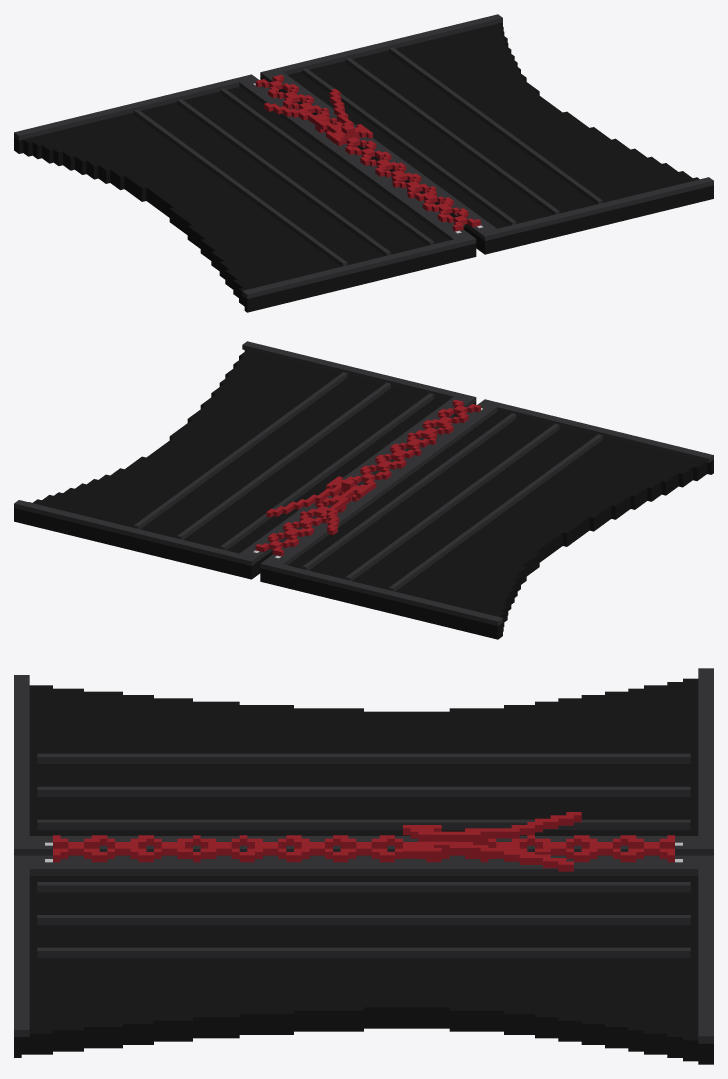
The model's file is corset.glb.
The picture shows the model from 3 angles, top to bottom: view 1: azimuth 30°, elevation 25°; view 2: azimuth 150°, elevation 25°; view 3: azimuth 270°, elevation 25°; orthographic projection. The views are drawn at different scales.
Visible parts, largest first — view 1: corset:compound; view 2: corset:compound; view 3: corset:compound.
Boxes of the visible parts, <box> form: corset:compound: <box>14,14,713,312</box>; corset:compound: <box>14,341,713,639</box>; corset:compound: <box>14,668,713,1064</box>.
Size of the model in its own units: 0.448 by 0.028 by 0.36.
